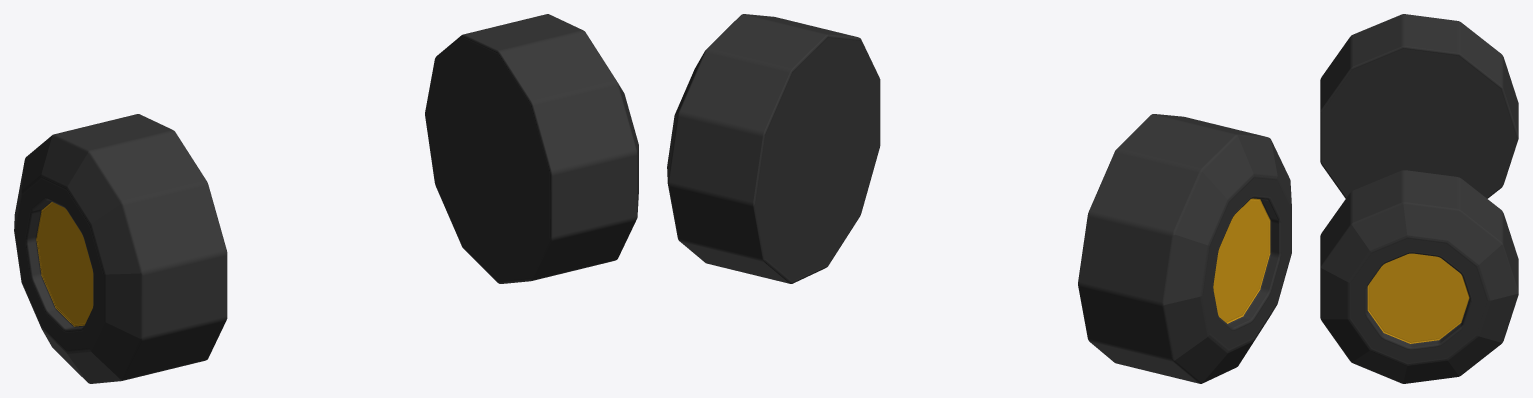
Rendered from Wheel Truck.fbx.
3 renders of one model, left to right at view 1: azimuth 30°, elevation 25°; view 2: azimuth 150°, elevation 25°; view 3: azimuth 270°, elevation 25°, orthographic. The views are drawn at different scales.
Visible parts, largest first — view 1: Cylinder.005; view 2: Cylinder.005; view 3: Cylinder.005.
Boxes of the visible parts, x1=… form: Cylinder.005: x1=14, y1=14, x2=638, y2=383; Cylinder.005: x1=667, y1=14, x2=1291, y2=383; Cylinder.005: x1=1320, y1=14, x2=1518, y2=383.
Bounding box in the file's own units: 309 × 128 × 127.
